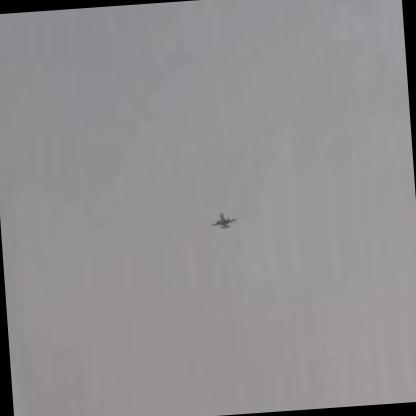plane: (207, 209, 240, 231)
